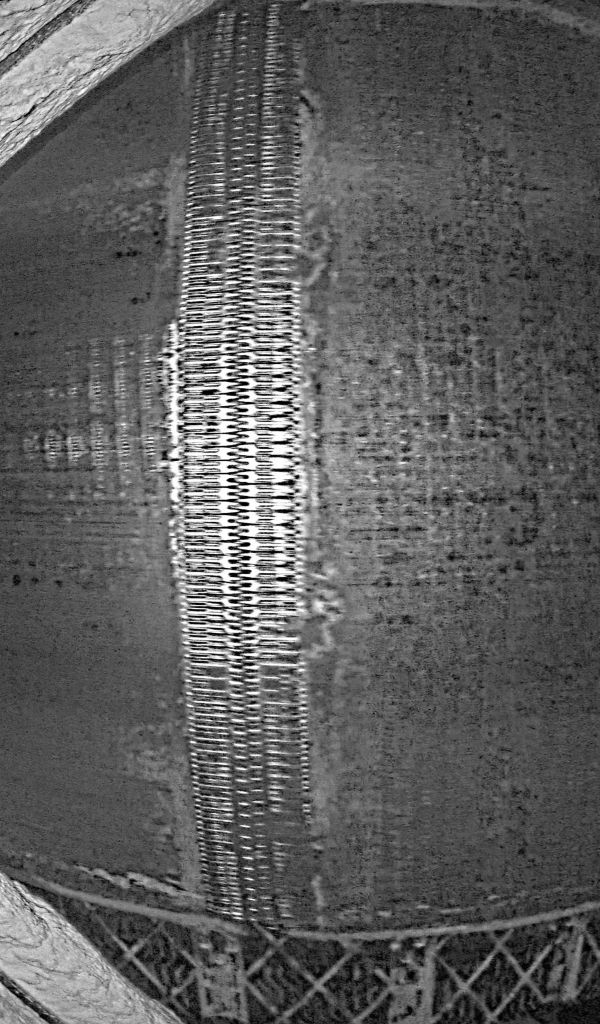splice: (162, 1, 319, 934)
